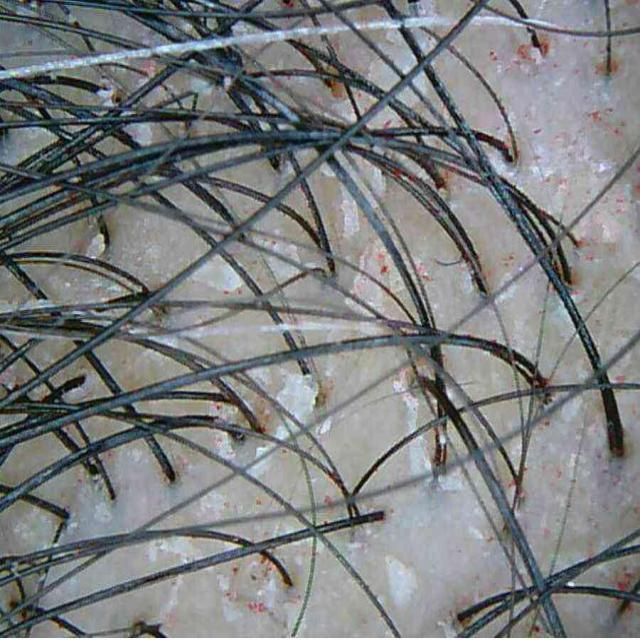d: (276, 374, 319, 423), (191, 256, 244, 293), (381, 556, 418, 608), (342, 187, 360, 236), (215, 433, 244, 460), (95, 80, 122, 106), (125, 123, 152, 146), (86, 232, 106, 257), (318, 417, 331, 435)
ds: (351, 246, 382, 309), (265, 241, 300, 282), (406, 436, 431, 480), (392, 365, 419, 395), (401, 389, 419, 432), (432, 469, 464, 491), (381, 267, 405, 293), (344, 298, 376, 313)
s: (518, 38, 550, 63), (516, 42, 542, 65), (568, 268, 584, 297), (376, 249, 390, 275), (618, 569, 636, 589), (245, 599, 268, 614), (595, 55, 606, 75), (614, 118, 626, 133), (602, 102, 615, 114), (610, 59, 619, 74), (588, 111, 600, 122), (490, 50, 498, 61), (224, 590, 232, 601), (260, 554, 268, 563), (232, 566, 239, 574)
